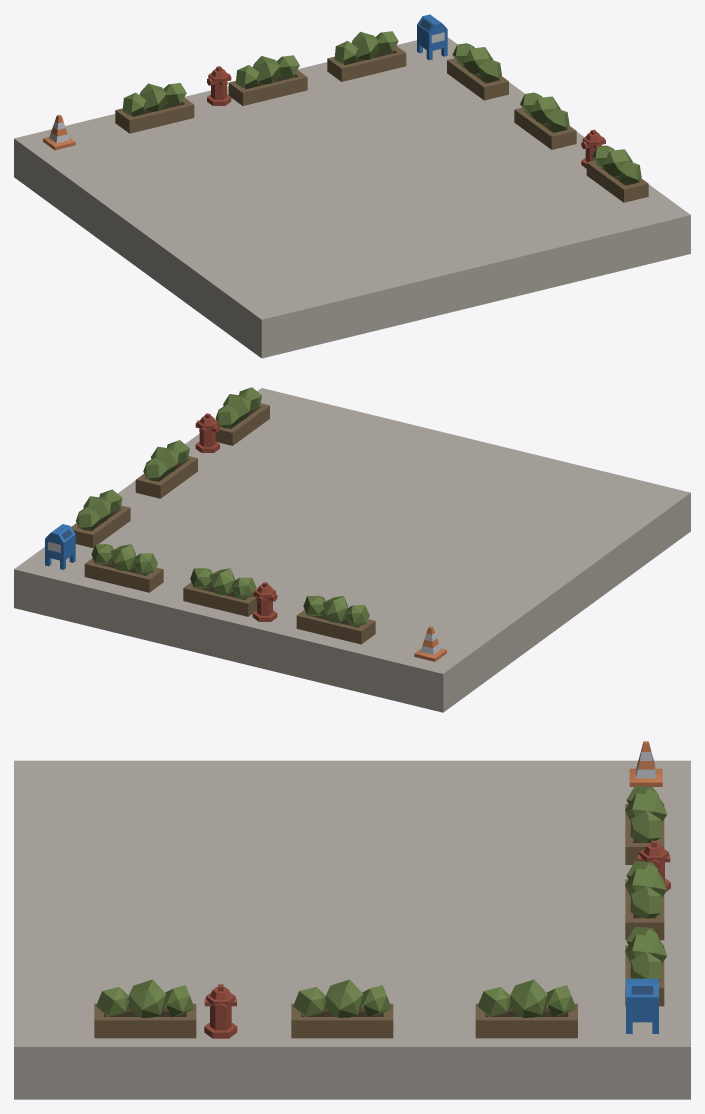
File: Scene-Decorate_Turning_A-Decorate_Turning.glb
3 views of the same model, one above another, from view 1: azimuth 30°, elevation 25°; view 2: azimuth 150°, elevation 25°; view 3: azimuth 270°, elevation 25° (orthographic). The views are drawn at different scales.
Parts seen in each view (by area): view 1: Scene-Decorate_Turning_A-Decorate_Turning; view 2: Scene-Decorate_Turning_A-Decorate_Turning; view 3: Scene-Decorate_Turning_A-Decorate_Turning.
Part boxes in pixels (bbox=[...]): Scene-Decorate_Turning_A-Decorate_Turning: bbox=[14, 14, 690, 358]; Scene-Decorate_Turning_A-Decorate_Turning: bbox=[14, 387, 690, 712]; Scene-Decorate_Turning_A-Decorate_Turning: bbox=[14, 741, 690, 1099].
Size of the model in its own units: 10 by 1.63 by 10.
Materials: 1 (1 with a texture image).
